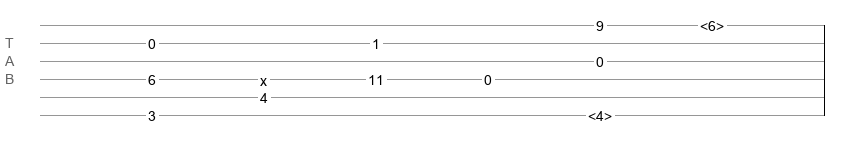0: (148, 36, 156, 46), (484, 72, 492, 82), (596, 54, 604, 64)
1: (372, 36, 380, 46)
11: (368, 72, 384, 82)
3: (148, 108, 156, 118)
4: (260, 90, 268, 100)
6: (148, 72, 156, 82)
9: (596, 18, 604, 28)
harmonic: (588, 108, 612, 118), (700, 18, 724, 28)
x: (260, 73, 267, 81)
